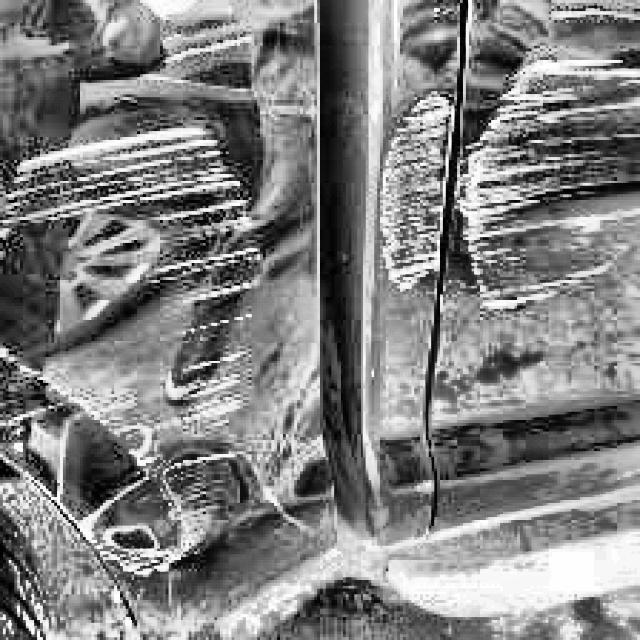door_scratch: (9, 144, 238, 557), (400, 54, 640, 297)
